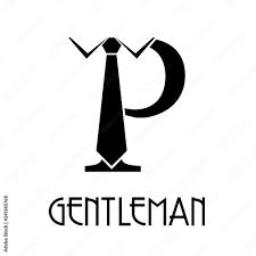a: (169, 195, 189, 225)
l: (117, 194, 131, 228)
t: (100, 195, 116, 227)
